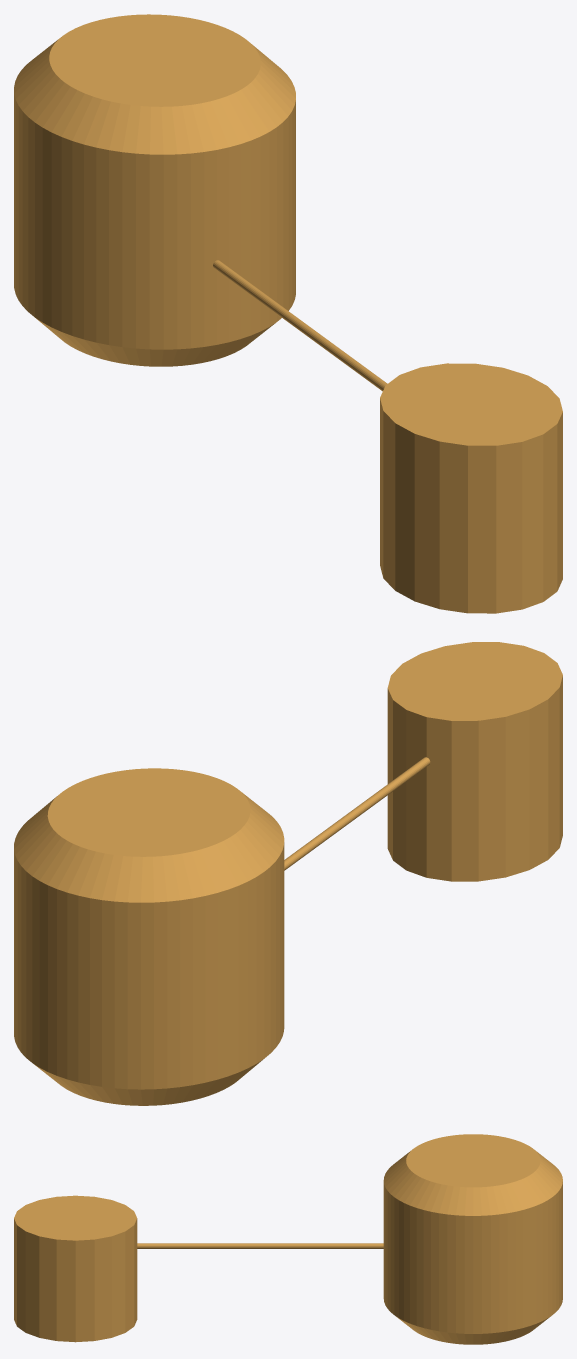
3 renders of one model, top to bottom at view 1: azimuth 30°, elevation 25°; view 2: azimuth 150°, elevation 25°; view 3: azimuth 270°, elevation 25°, orthographic. The views are drawn at different scales.
Parts seen in each view (by area): view 1: Mesh_Mesh_head_geo.001_lambert2SG.001; view 2: Mesh_Mesh_head_geo.001_lambert2SG.001; view 3: Mesh_Mesh_head_geo.001_lambert2SG.001.
Boxes of the visible parts, x1,y1,x2,y2 form: Mesh_Mesh_head_geo.001_lambert2SG.001: (14,14,562,613); Mesh_Mesh_head_geo.001_lambert2SG.001: (14,642,562,1105); Mesh_Mesh_head_geo.001_lambert2SG.001: (14,1134,562,1344).
Bounding box in the file's own units: 30 × 32 × 98.
